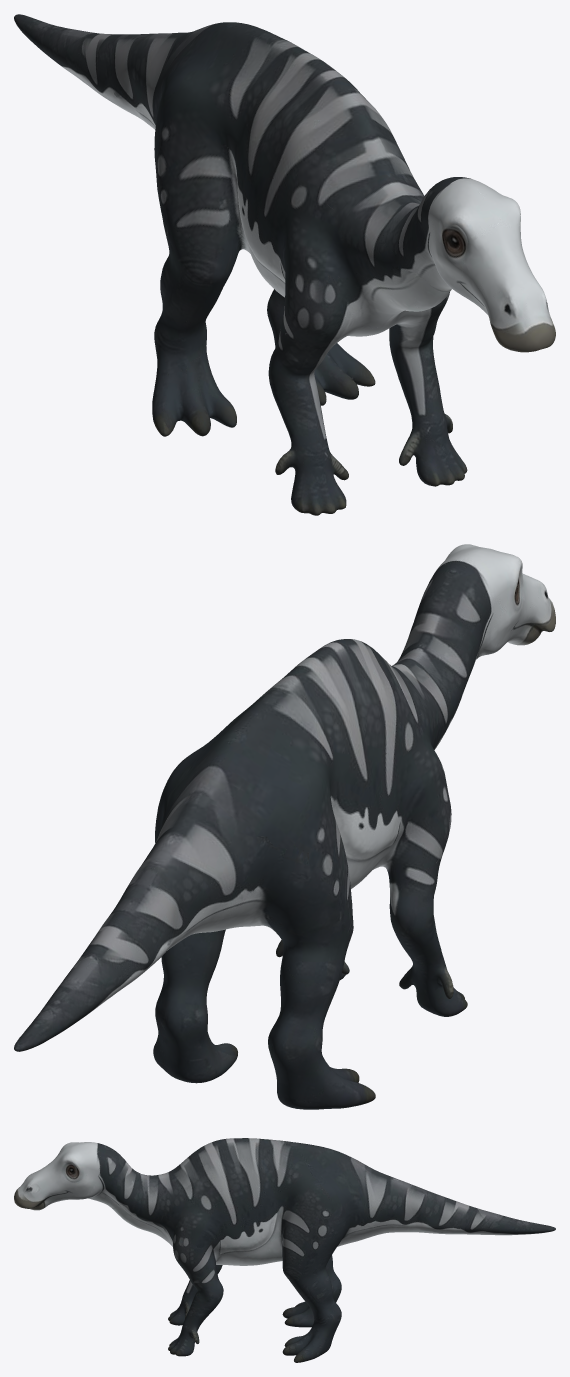
File: M-maiasaura.glb
3 renders of one model, top to bottom at view 1: azimuth 30°, elevation 25°; view 2: azimuth 150°, elevation 25°; view 3: azimuth 270°, elevation 25°, orthographic. The views are drawn at different scales.
Bounding box in the file's own units: 0.4451 × 0.7665 × 1.9.
1 material, 1 textured.
